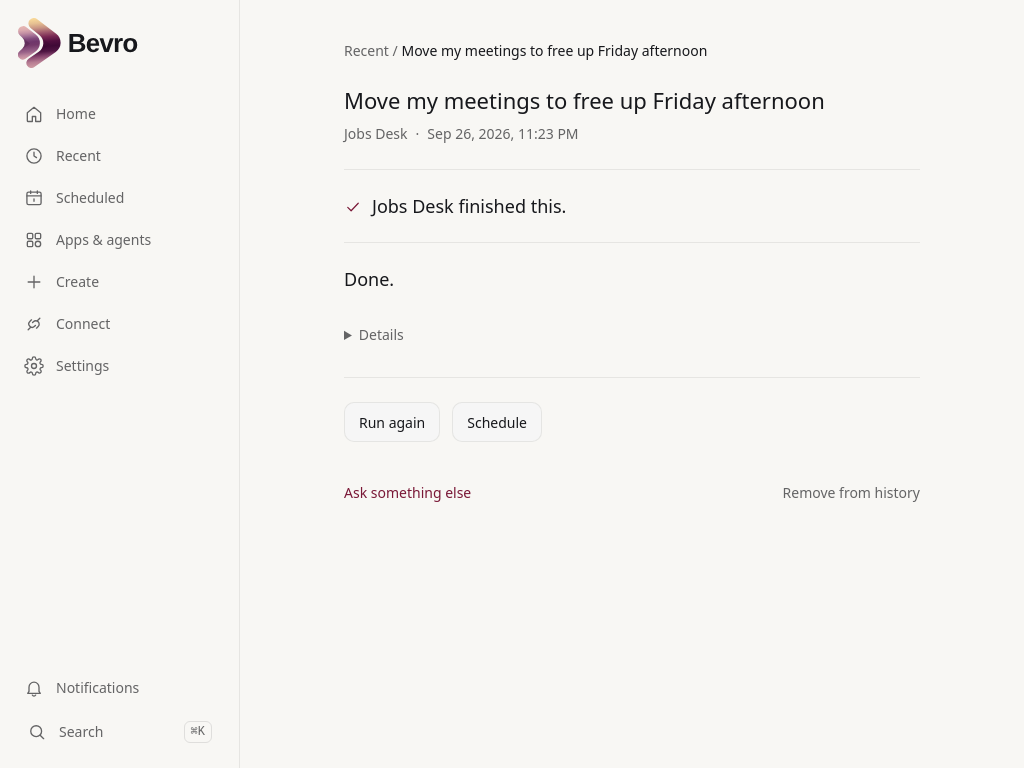
Scenario: details - every attempt and way tried - stay folded away until asked for
This screenshot has width=1024, height=768.
Check: the text "Jobs Desk finished this." is shown, box [372,194,566,218]
Click the heading "Details".
click(381, 334)  # box [359,325,404,344]
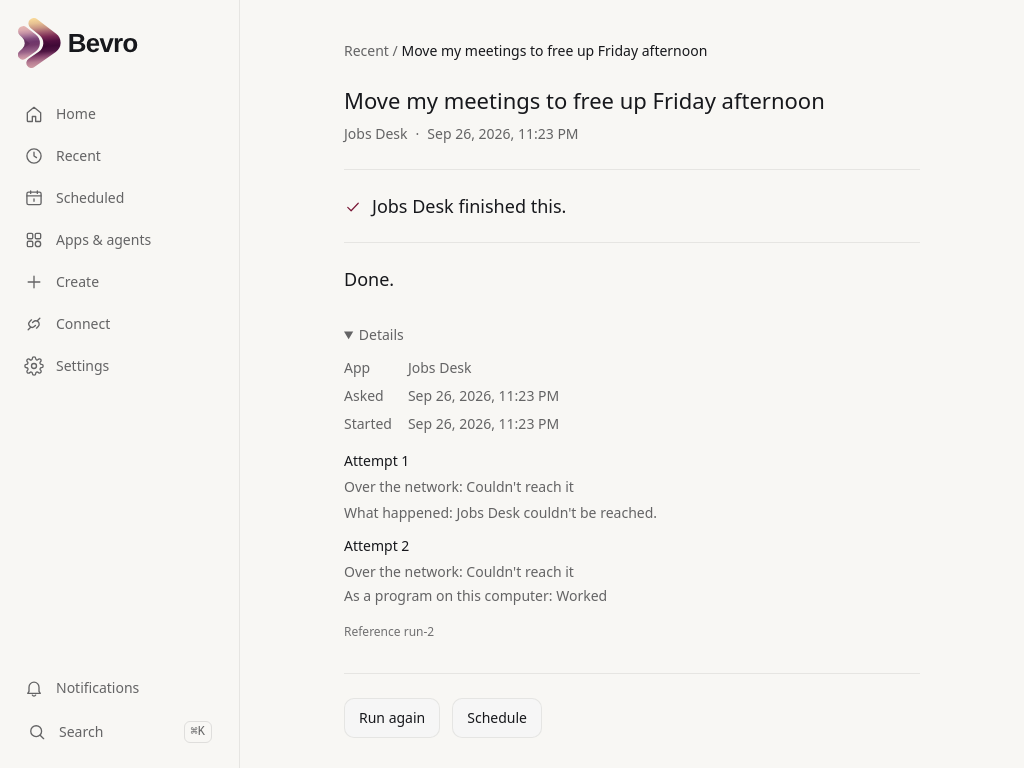
Check: the text "Attempt 1" is shown, box [344,451,409,470]
Check: the text "Attempt 2" is shown, box [344,536,409,556]
Check: the list item "As a program on this computer: Worked" is shown, box [344,586,607,605]
